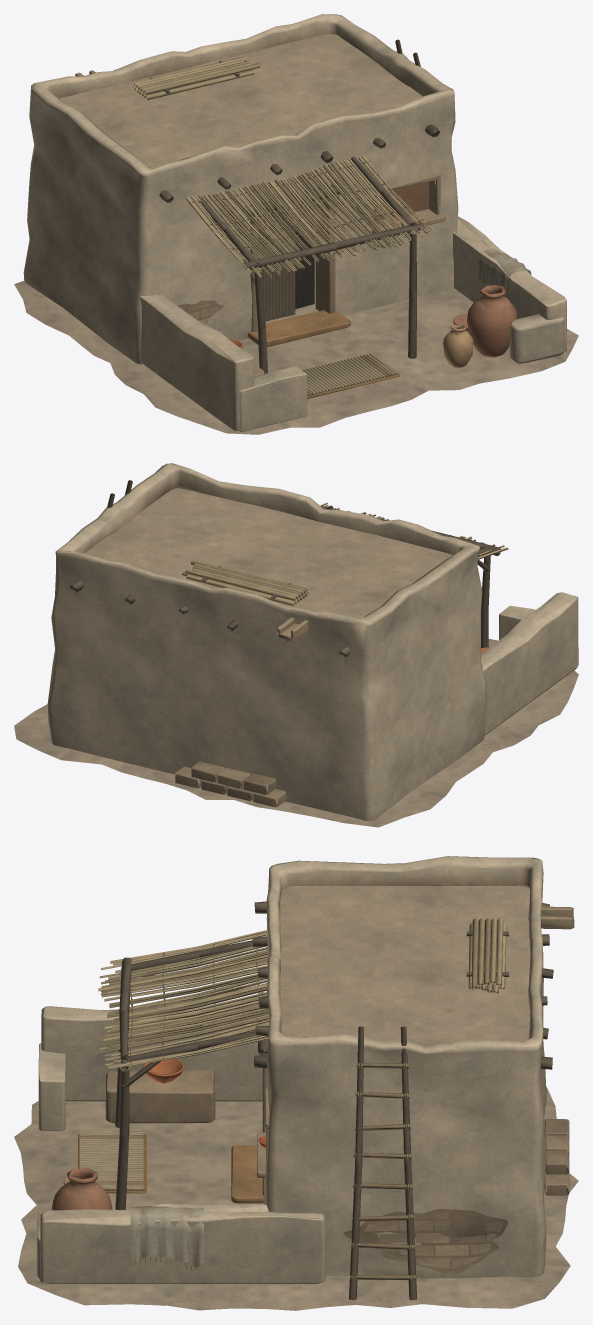
The model's file is house.glb.
The picture shows the model from 3 angles, top to bottom: view 1: azimuth 30°, elevation 25°; view 2: azimuth 150°, elevation 25°; view 3: azimuth 270°, elevation 25°; orthographic projection. The views are drawn at different scales.
Parts seen in each view (by area): view 1: Courtyard house I; view 2: Courtyard house I; view 3: Courtyard house I.
Boxes of the visible parts, x1,y1,x2,y2 form: Courtyard house I: (14,14,578,434); Courtyard house I: (14,463,578,827); Courtyard house I: (14,856,578,1310).
Size of the model in its own units: 4.97 by 2.48 by 5.06.
Materials: 6 (6 with a texture image).
